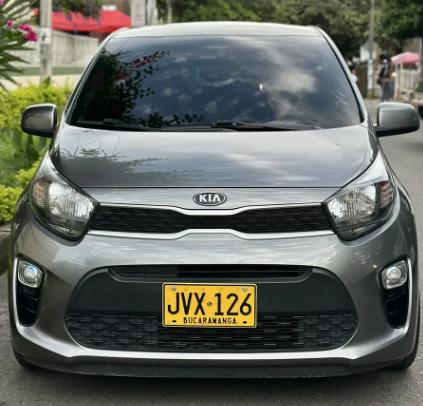placa: (161, 282, 255, 328)
